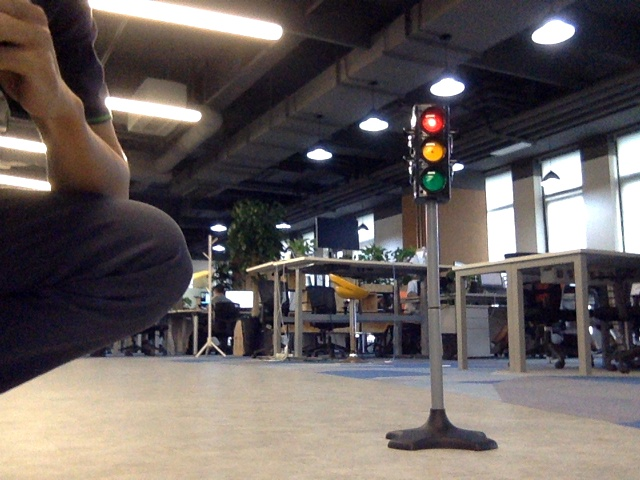red: (416, 108, 447, 193)
